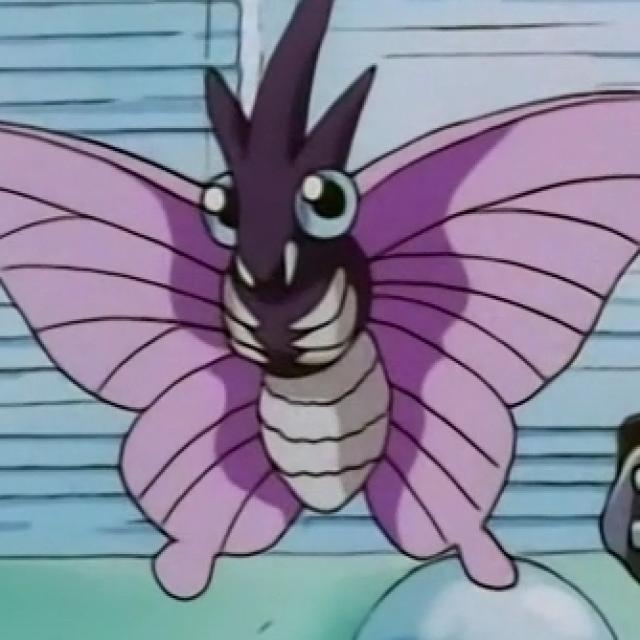Venomoth: (132, 68, 520, 596)
